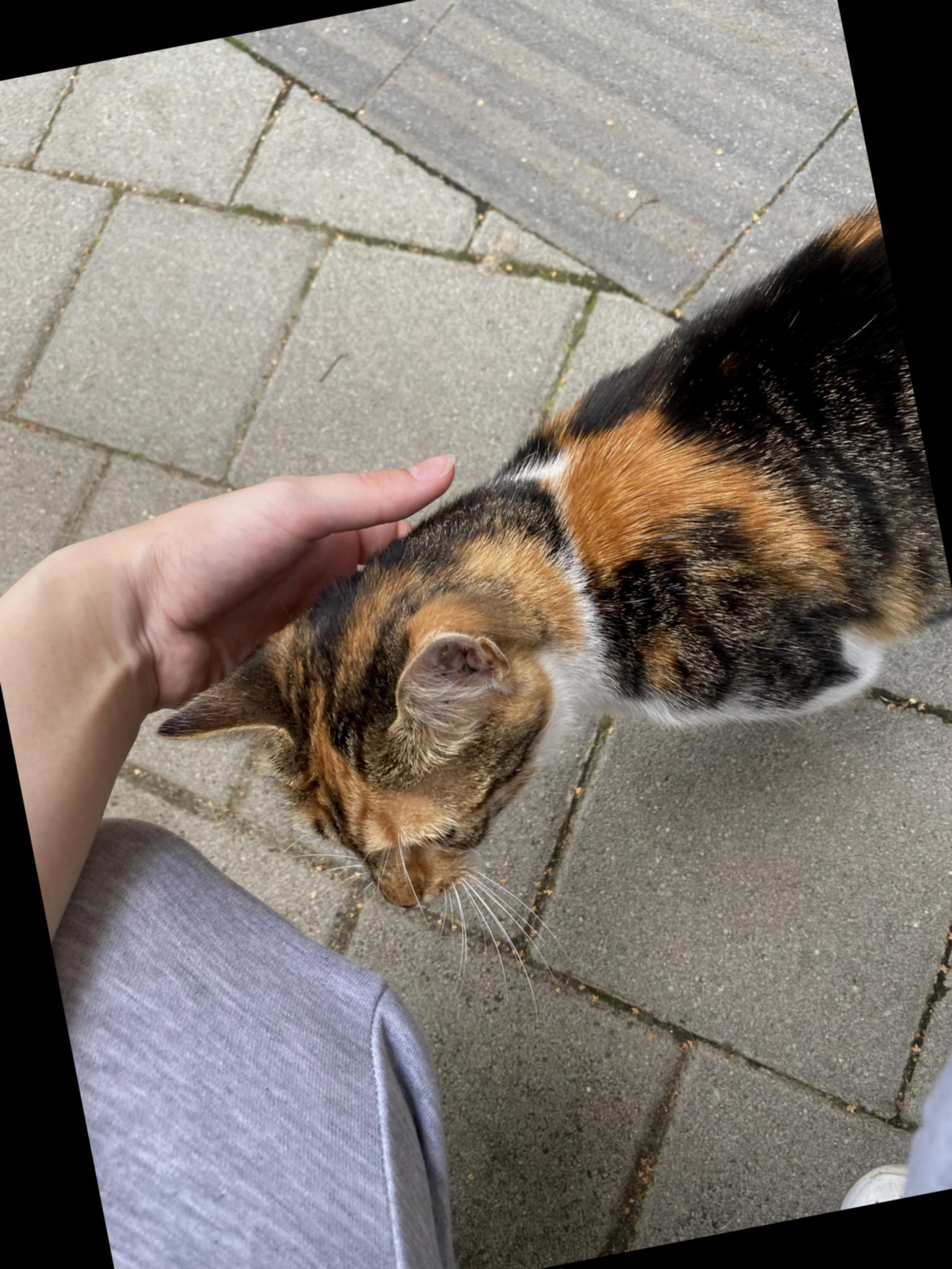macka: (82, 190, 952, 963)
